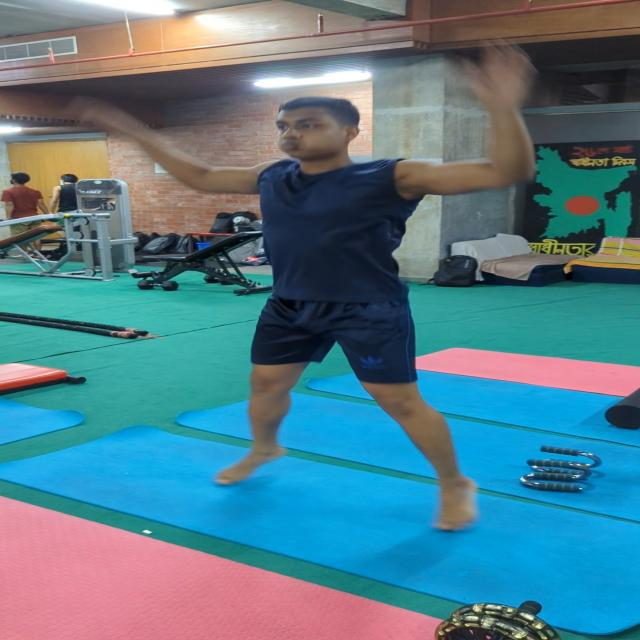Normal_JumpingJacks: (126, 76, 575, 528)
